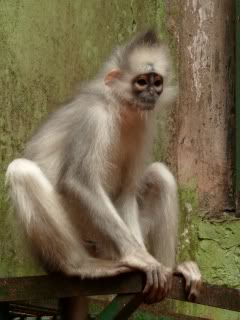monkey: (3, 33, 208, 300)
